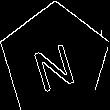N_N: (29, 30, 81, 91)
